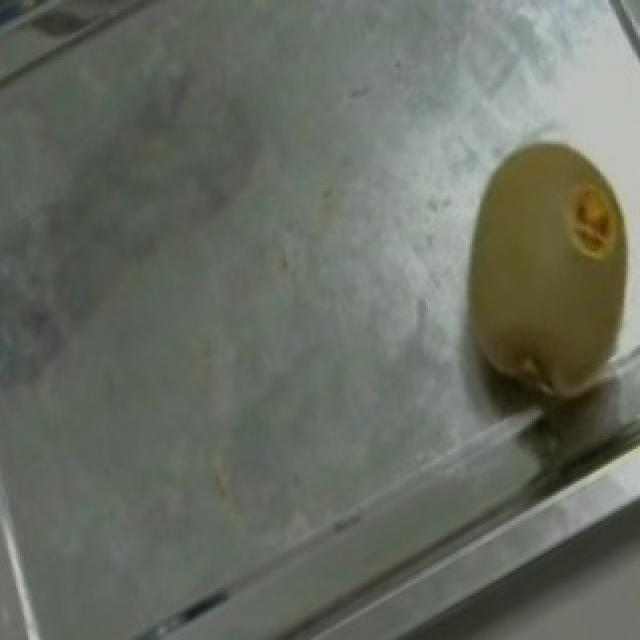Fruit: (422, 114, 640, 429)
